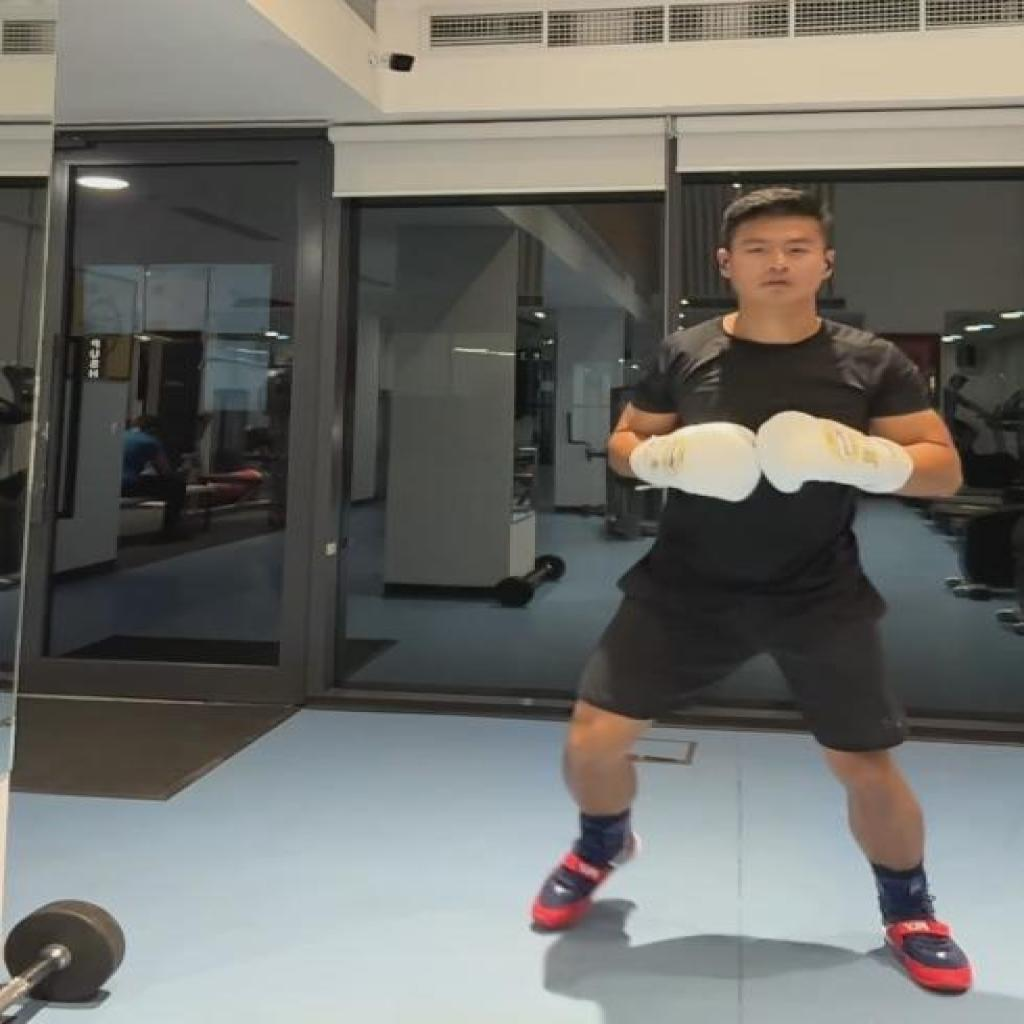no punch: (527, 184, 976, 1000)
